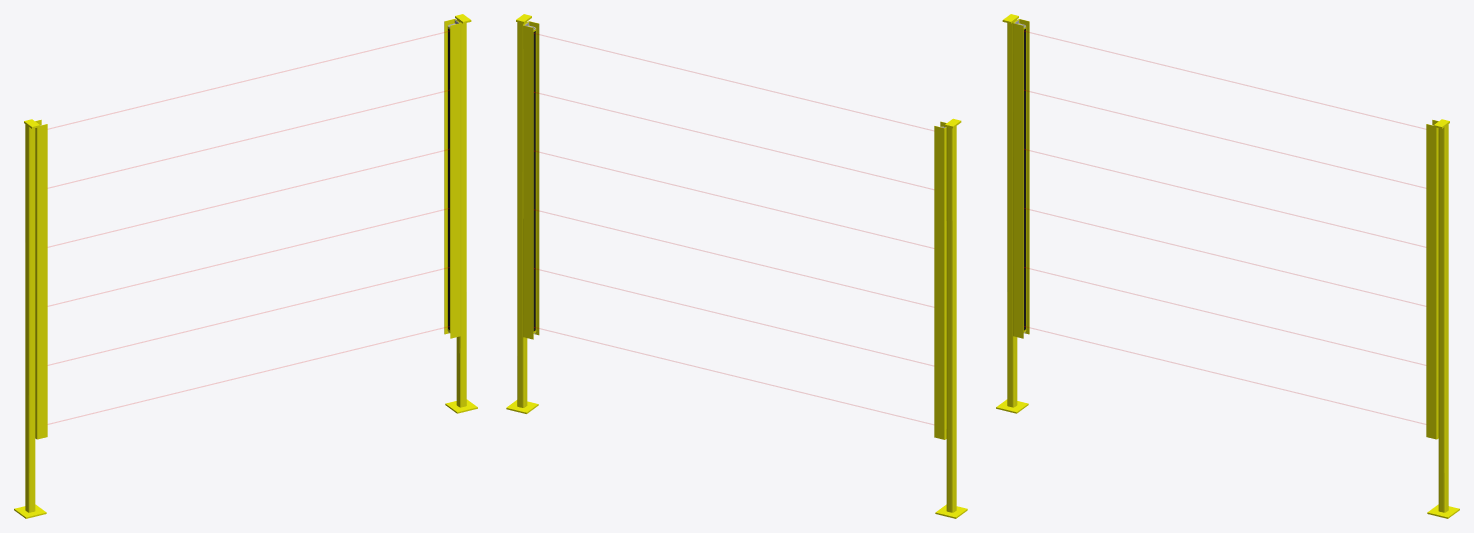
File: Safety Light Curtain.glb
3 views of the same model, side by side, from view 1: azimuth 30°, elevation 25°; view 2: azimuth 150°, elevation 25°; view 3: azimuth 330°, elevation 25° (orthographic).
Parts seen in each view (by area): view 1: Mesh [003g], Mesh [005g], Mesh [007g], Mesh [001g], Mesh [00Zg], Mesh [00Dg]; view 2: Mesh [003g], Mesh [005g], Mesh [007g], Mesh [001g], Mesh [00Zg], Mesh [00Dg]; view 3: Mesh [007g], Mesh [001g], Mesh [003g], Mesh [005g], Mesh [00ag], Mesh [00Ig].
Boxes of the visible parts, x1,y1,x2,y2 form: Mesh [003g]: (444,19,460,338); Mesh [005g]: (25,124,35,512); Mesh [007g]: (35,119,47,439); Mesh [001g]: (456,19,466,407); Mesh [00Zg]: (448,28,449,330); Mesh [00Dg]: (447,28,450,330); Mesh [003g]: (523,21,539,339); Mesh [005g]: (946,126,956,512); Mesh [007g]: (934,121,946,439); Mesh [001g]: (517,21,527,407); Mesh [00Zg]: (533,31,535,331); Mesh [00Dg]: (535,30,536,329); Mesh [007g]: (1013,19,1029,338); Mesh [001g]: (1438,124,1448,512); Mesh [003g]: (1426,119,1438,439); Mesh [005g]: (1007,19,1017,407); Mesh [00ag]: (1024,28,1025,330); Mesh [00Ig]: (1023,28,1026,330).
Size of the model in its own units: 3.2 by 2.64 by 0.1461.
